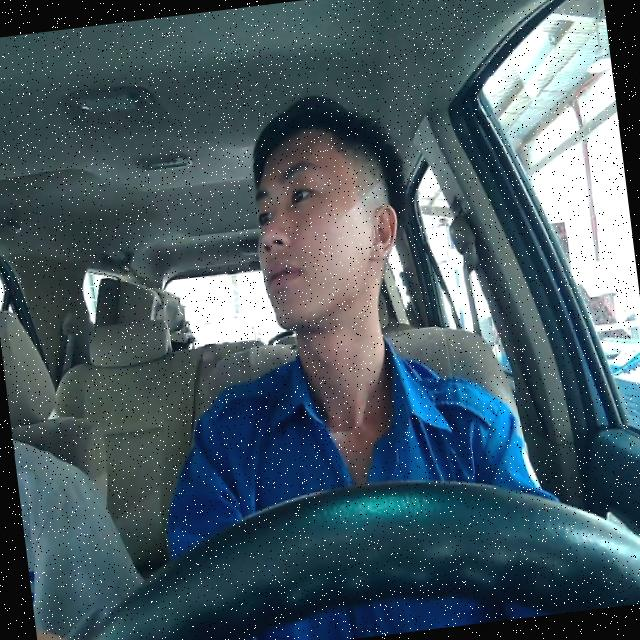seeing_left: (240, 114, 410, 334)
